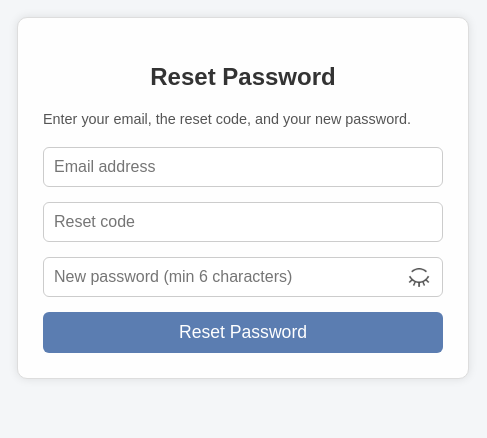
Scenario: ResetPasswordPage › shows JSON error from server
Type "test@example.com" into the field with placeholder "Email address" at (243,167), box [43,147,443,187]
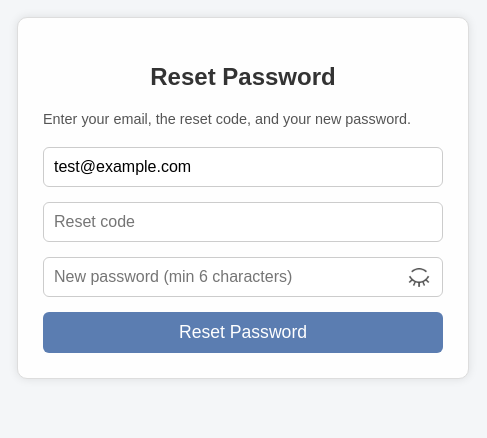
Type "wrongcode" into the field with placeholder "Reset code" at (243,222), box [43,202,443,242]
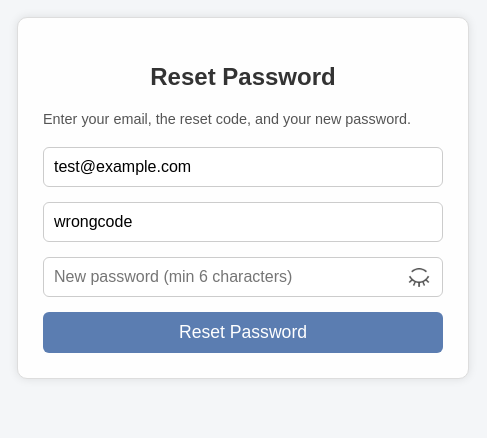
Type "password123" into the password field with placeholder "New password (min 6 characters)" at (243,277), box [43,257,443,297]
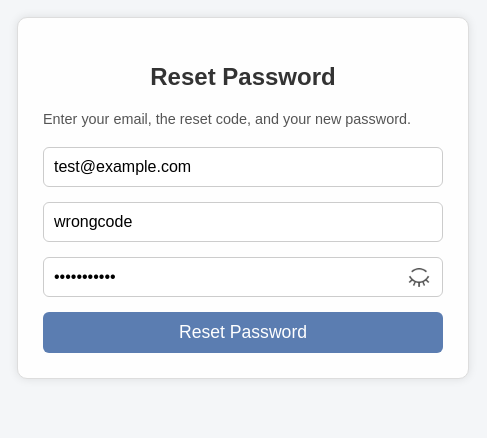
Click the button "Reset Password" at (243,332), box [43,312,443,353]
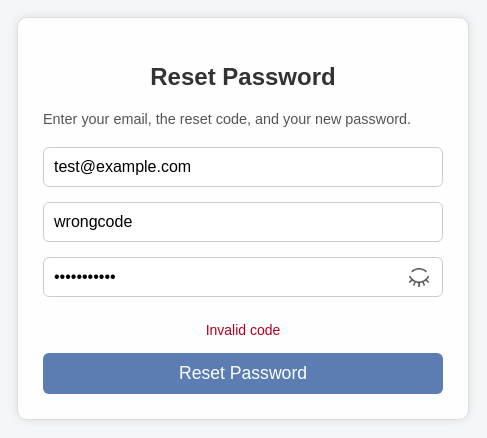
Now the text "Invalid code" is shown, box [206,322,280,338]
